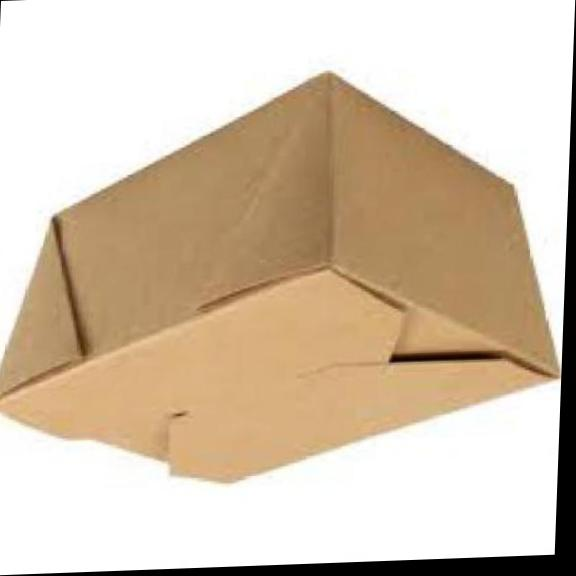Kertas: (0, 74, 557, 482)
